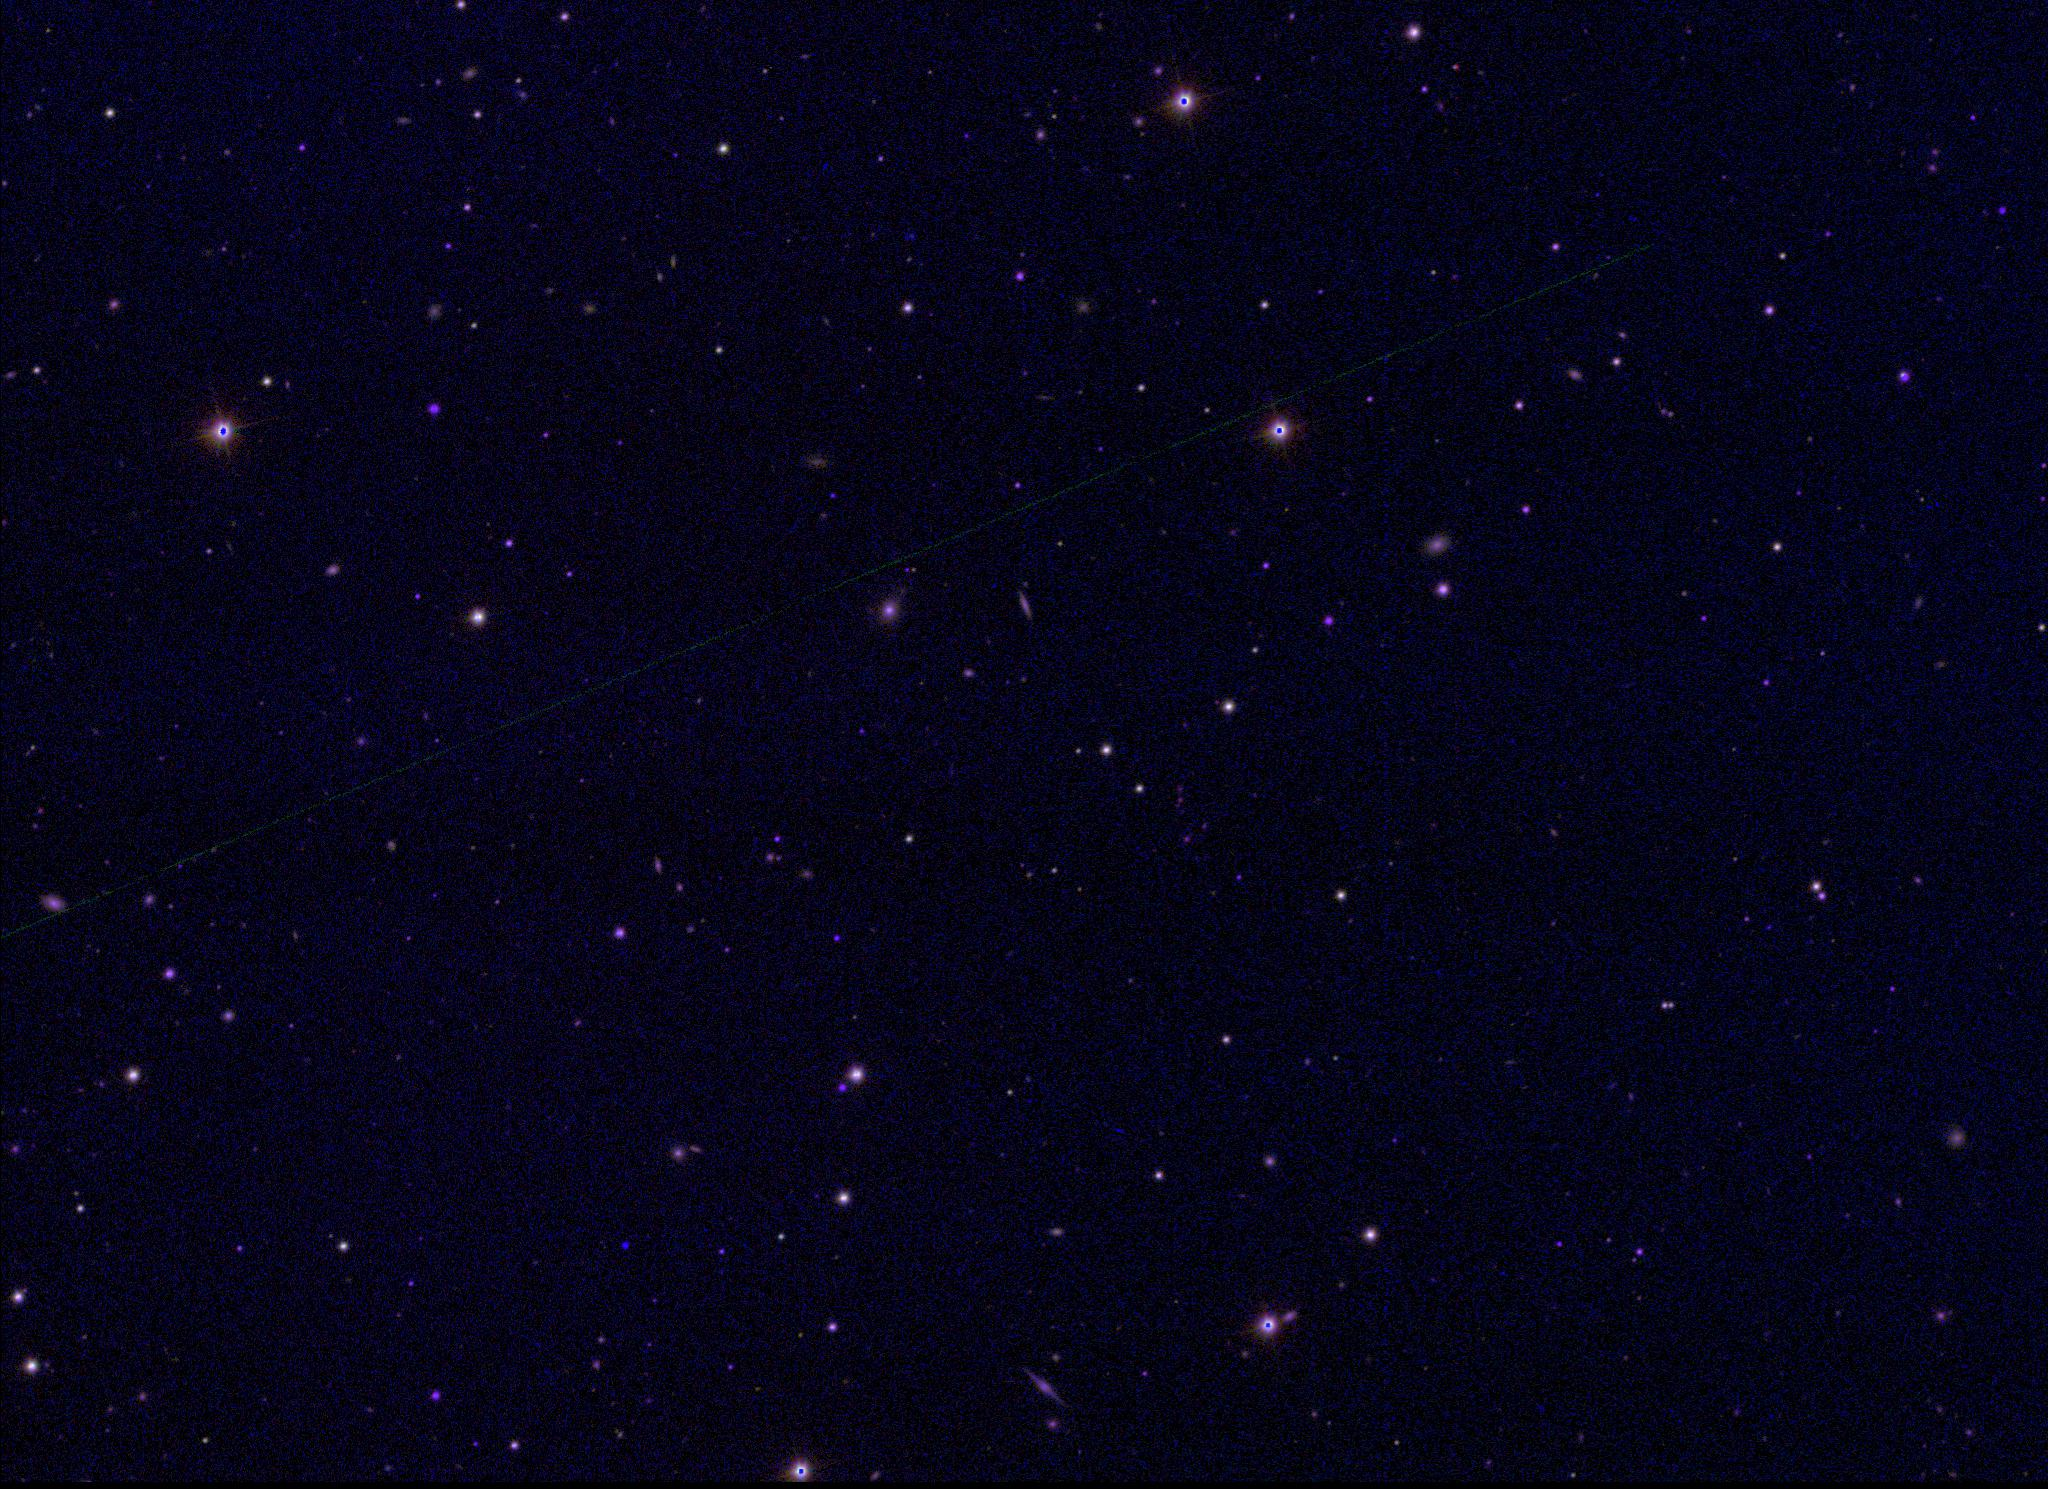L: (619, 1238, 631, 1252)
